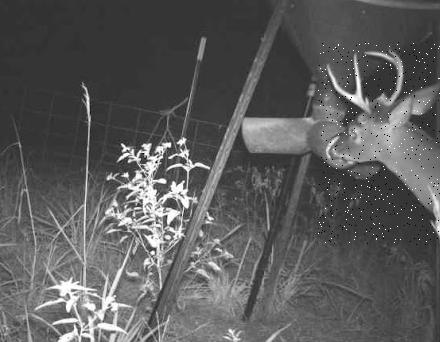Deer: (318, 42, 440, 245)
